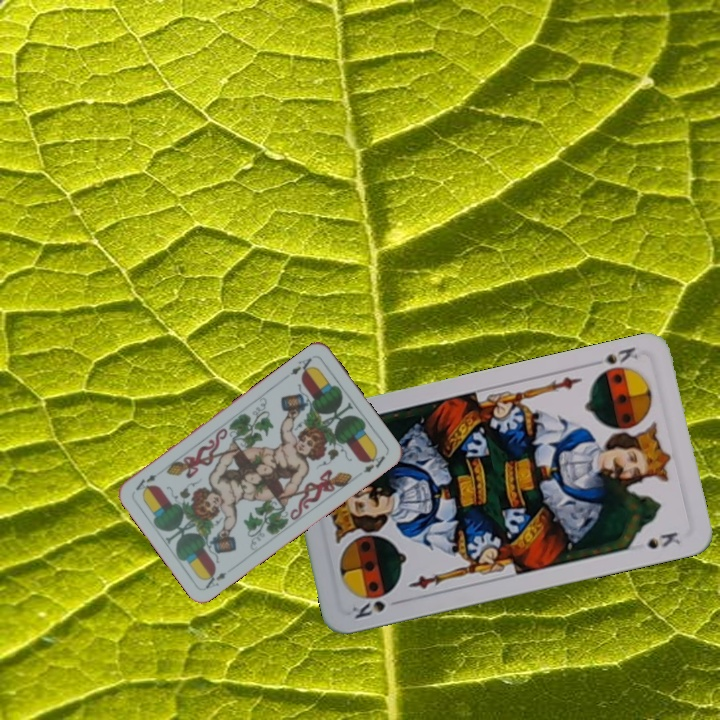EA: (286, 352, 316, 379), (199, 568, 228, 591)
SK: (348, 588, 397, 622), (600, 342, 646, 367)
